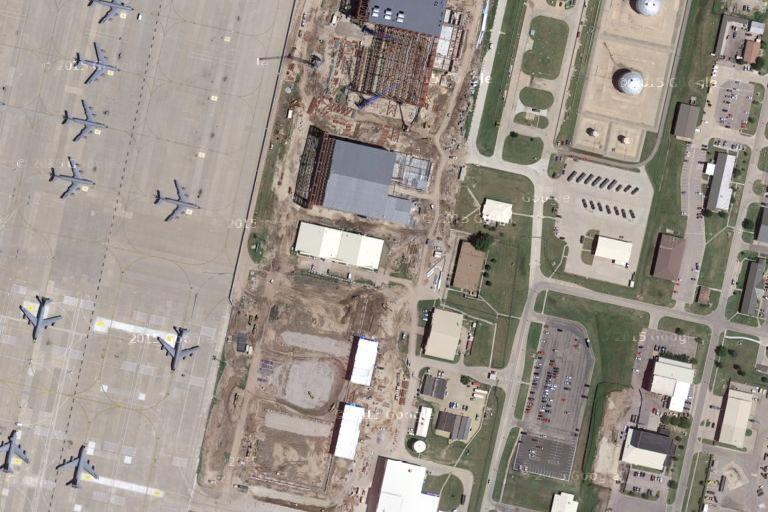KC-135: (43, 154, 99, 203), (149, 178, 206, 224), (15, 293, 65, 344), (58, 98, 112, 145), (51, 443, 102, 491), (155, 326, 202, 375), (72, 40, 117, 86), (1, 427, 33, 475), (83, 1, 142, 26)
